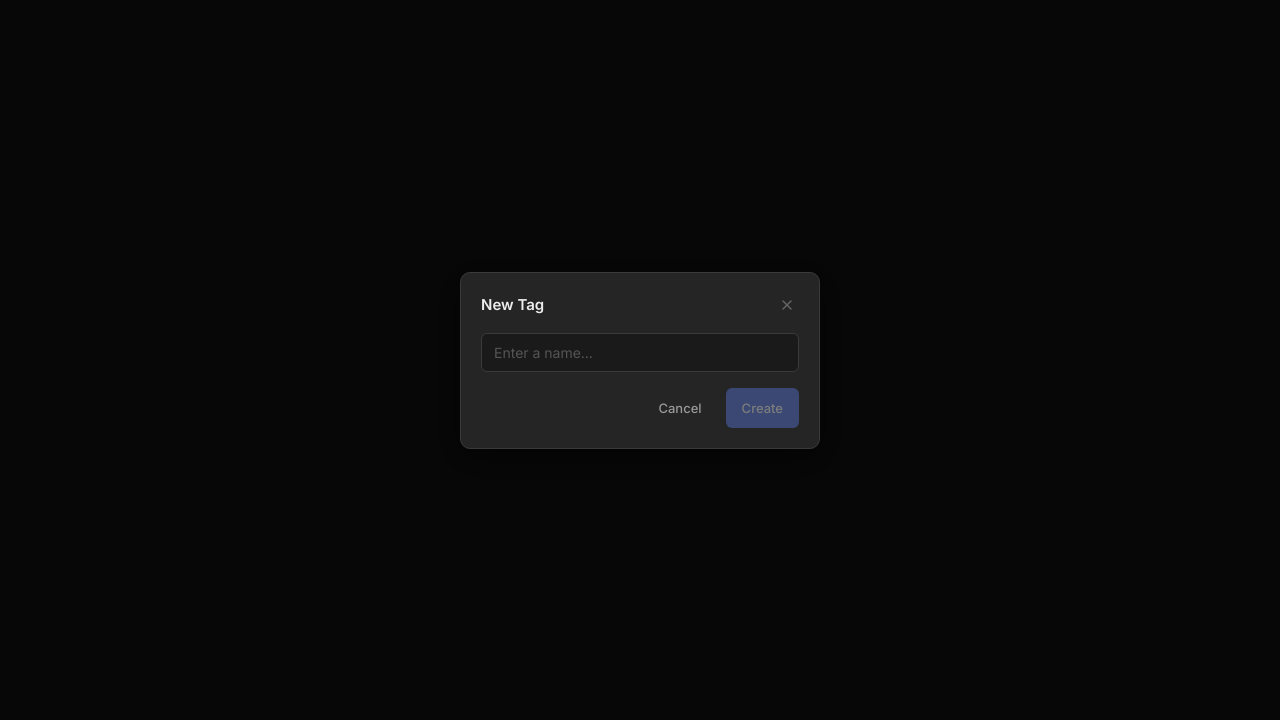
it: NameDialog › shows validation errors instead of confirming
In the field: (640, 352) [481, 332, 799, 372], type "Duplicate"
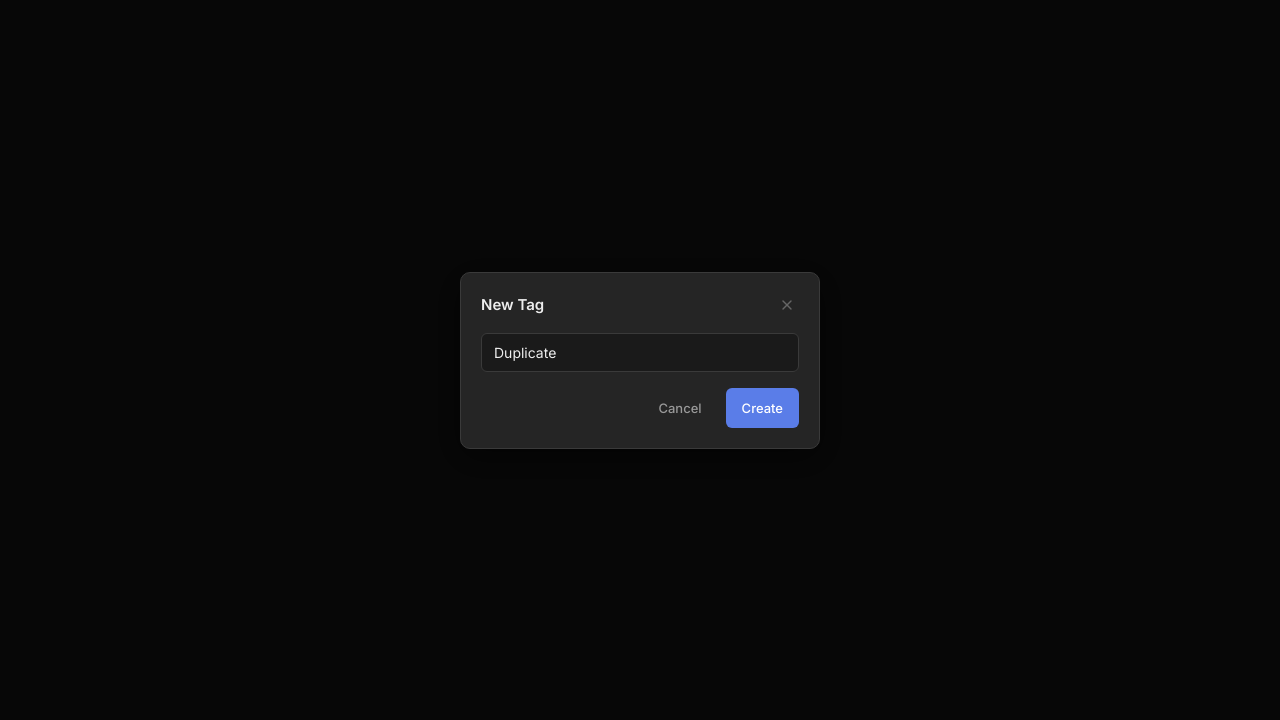
Click the button "Create": (762, 408) [726, 388, 799, 428]
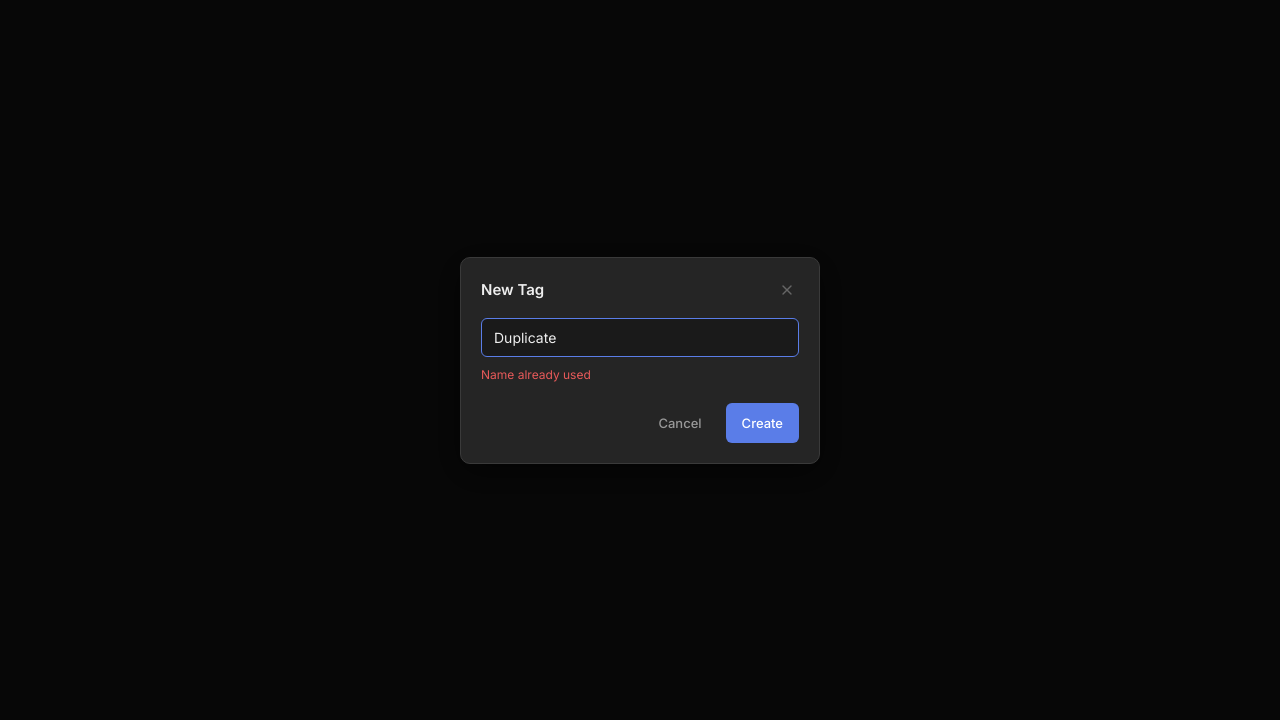
Result: the text "Name already used" is shown at [481, 366, 591, 382]
